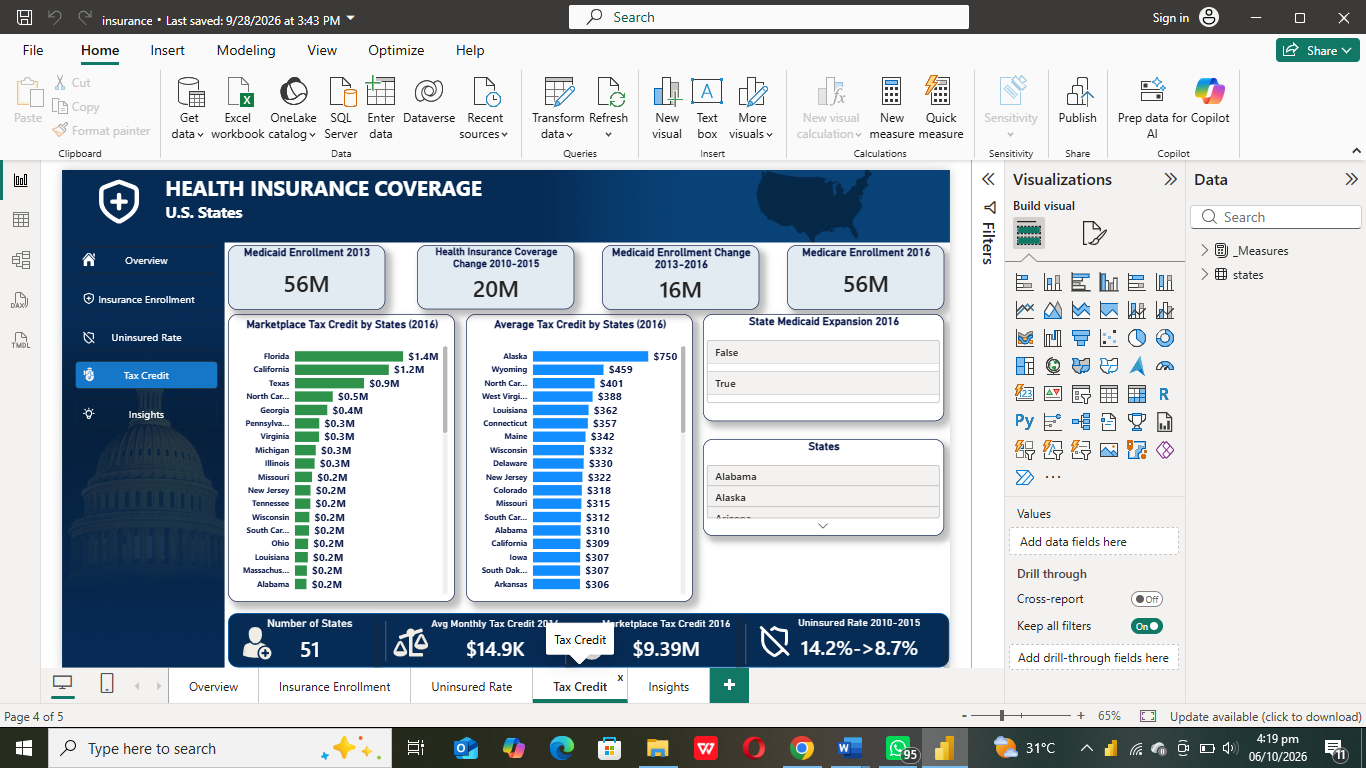

The page's visual inventory and layout, read from the dashboard file:
{"tool":"powerbi","page":{"name":"Tax Credit","canvas":[1366,768],"ordinal":3},"visuals":[{"type":"clusteredBarChart","title":"Average Tax Credit by States  (2016)","fields":{"Category":["states.State"],"Y":["Sum(states.Average Monthly Tax Credit (2016))"]},"box":[621.5,221.5,349.2,443.1],"z":0},{"type":"clusteredBarChart","title":"Marketplace Tax Credit by States  (2016)","fields":{"Category":["states.State"],"Y":["Sum(states.Marketplace Tax Credits (2016))"]},"box":[255.4,221.5,349.2,443.1],"z":1000},{"type":"cardVisual","title":"Medicaid Enrollment Change 2013-2016","fields":{"Data":["_Measures.medicaid enrollment change 2013-2016"]},"box":[830.9,115.8,242.2,99.7],"z":2000},{"type":"image","box":[255,131.7,75.6,65.5],"z":3000},{"type":"cardVisual","title":"Medicaid Enrollment 2013","fields":{"Data":["_Measures.Medicaid enrollment 2013"]},"box":[255.4,115.4,241.5,100],"z":4000},{"type":"cardVisual","title":"Medicare Enrollment 2016","fields":{"Data":["_Measures.medicare enrrollment 2016"]},"box":[1115.4,115.4,242.2,99.7],"z":5000},{"type":"cardVisual","title":"Health Insurance Coverage Change 2010-2015 ","fields":{"Data":["_Measures.total health insurance coverage change"]},"box":[546.2,115.4,242.3,99.3],"z":6000},{"type":"cardVisual","title":"States","fields":{"Rows":["states.State"]},"box":[986.2,413.8,370.8,149.2],"z":7000},{"type":"cardVisual","title":"State Medicaid Expansion 2016","fields":{"Rows":["states.State Medicaid Expansion (2016)"]},"box":[986.2,221.5,370.8,164.6],"z":8000},{"type":"textbox","box":[153.3,0,860,103.3],"z":9000},{"type":"pageNavigator","box":[20,116.9,220,281.5],"z":10000},{"type":"image","box":[30.5,123.8,21.2,29.1],"z":11000},{"type":"image","box":[30.5,183.4,21.2,29.1],"z":12000},{"type":"image","box":[30.4,242.5,21.2,29.1],"z":13000},{"type":"image","box":[30.3,300,21.2,29.1],"z":14000},{"type":"image","box":[30.7,359.5,21.2,29.1],"z":15000},{"type":"image","box":[30.8,7,113.8,81.5],"z":16000},{"type":"image","box":[765.8,698.1,90.7,55.4],"z":16000,"group":"g3"},{"type":"shape","box":[254.7,682.1,1109.5,83.7],"z":17000},{"type":"image","box":[276.1,697,50.4,62.2],"z":17000,"group":"g1"},{"type":"shape","box":[1011.6,698.1,79,62.2],"z":18000},{"type":"image","box":[504,699.9,63.8,53.8],"z":18000,"group":"g2"},{"type":"shape","box":[457.7,694.6,79,62.2],"z":19000},{"type":"group","id":"g1","title":"Group 8","box":[276.1,697,50.4,62.2],"z":20000},{"type":"group","id":"g2","title":"Group 9","box":[504,699.9,64.1,53.4],"z":21000},{"type":"group","id":"g3","title":"Group 10","box":[765.8,698.1,90.8,55.2],"z":22000},{"type":"group","id":"g4","title":"Group 11","box":[1050.8,696.4,92.6,55.2],"z":23000},{"type":"image","box":[1050.8,696.4,90.7,55.4],"z":23000,"group":"g4"},{"type":"cardVisual","title":"Avg Monthly Tax Credit 2016","fields":{"Data":["_Measures.Total Average Monthly Tax Credit 2016"]},"box":[559.2,687.5,216.5,80],"z":24000},{"type":"cardVisual","title":"Number of States","fields":{"Data":["_Measures.total states"]},"box":[283.2,687.4,196.5,80.6],"z":25000},{"type":"cardVisual","title":"Marketplace Tax Credit 2016","fields":{"Data":["_Measures.Total Marketplace Tax Credit 2016"]},"box":[821,687.5,216.5,80],"z":26000},{"type":"cardVisual","title":"Uninsured Rate 2010-2015","fields":{"Data":["_Measures.Uninsured Rate"]},"box":[1097.1,685.7,260,80.1],"z":27000},{"type":"shape","box":[735.4,698.5,79,62.2],"z":28000}]}

Visuals, with their boxes on the page's 1366x768 design canvas (x1, y1, x2, y2). These are canvas units, not pixel positions in the 1366x768 screenshot, which may show the page scaled, cropped or inside an application window:
"Average Tax Credit by States  (2016)" clusteredBarChart: bbox(622, 222, 971, 665)
"Marketplace Tax Credit by States  (2016)" clusteredBarChart: bbox(255, 222, 605, 665)
"Medicaid Enrollment Change 2013-2016" cardVisual: bbox(831, 116, 1073, 216)
image: bbox(255, 132, 331, 197)
"Medicaid Enrollment 2013" cardVisual: bbox(255, 115, 497, 215)
"Medicare Enrollment 2016" cardVisual: bbox(1115, 115, 1358, 215)
"Health Insurance Coverage Change 2010-2015 " cardVisual: bbox(546, 115, 788, 215)
"States" cardVisual: bbox(986, 414, 1357, 563)
"State Medicaid Expansion 2016" cardVisual: bbox(986, 222, 1357, 386)
textbox: bbox(153, 0, 1013, 103)
pageNavigator: bbox(20, 117, 240, 398)
image: bbox(30, 124, 52, 153)
image: bbox(30, 183, 52, 212)
image: bbox(30, 242, 52, 272)
image: bbox(30, 300, 52, 329)
image: bbox(31, 360, 52, 389)
image: bbox(31, 7, 145, 88)
image: bbox(766, 698, 856, 754)
shape: bbox(255, 682, 1364, 766)
image: bbox(276, 697, 326, 759)
shape: bbox(1012, 698, 1091, 760)
image: bbox(504, 700, 568, 754)
shape: bbox(458, 695, 537, 757)
"Group 8" group: bbox(276, 697, 326, 759)
"Group 9" group: bbox(504, 700, 568, 753)
"Group 10" group: bbox(766, 698, 857, 753)
"Group 11" group: bbox(1051, 696, 1143, 752)
image: bbox(1051, 696, 1142, 752)
"Avg Monthly Tax Credit 2016" cardVisual: bbox(559, 688, 776, 768)
"Number of States" cardVisual: bbox(283, 687, 480, 768)
"Marketplace Tax Credit 2016" cardVisual: bbox(821, 688, 1038, 768)
"Uninsured Rate 2010-2015" cardVisual: bbox(1097, 686, 1357, 766)
shape: bbox(735, 698, 814, 761)
